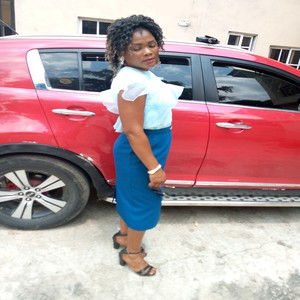Fulokoja_female_student: (108, 18, 172, 278)
